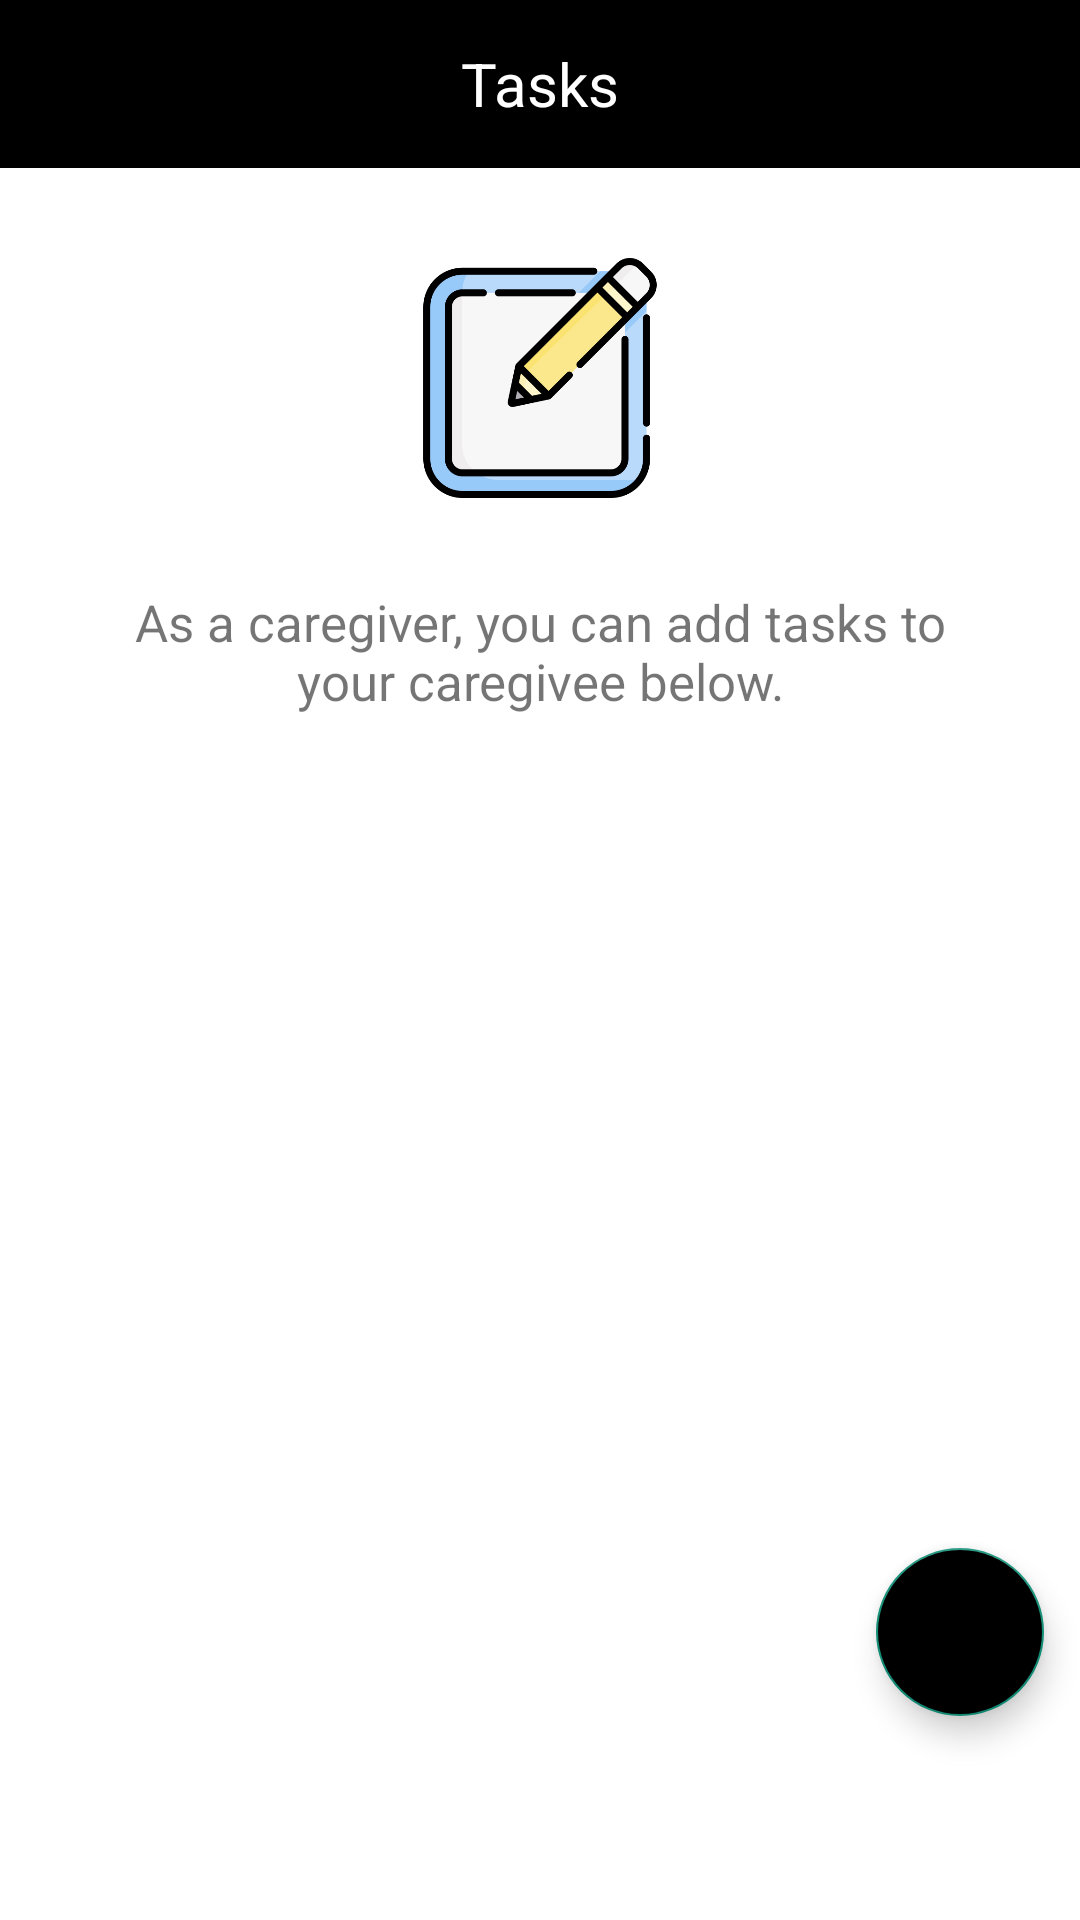

Named icons in this screenshot (1080x1920) and their bounding boxes, (x1, y1, x2, y2):
edit: (423, 258, 657, 498)
